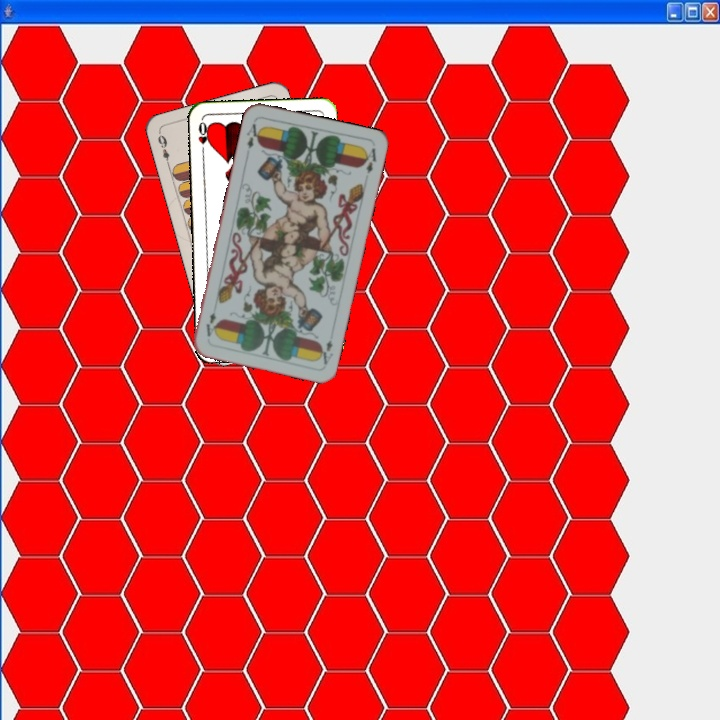E9: (154, 131, 172, 169)
EA: (243, 120, 264, 151), (315, 336, 336, 367)
HO: (194, 118, 212, 157)
